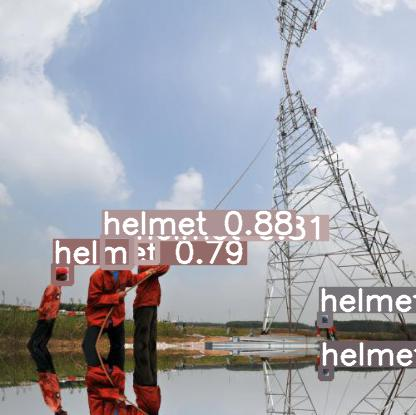helmet: (102, 235, 131, 267), (135, 240, 157, 262), (53, 264, 71, 283), (319, 312, 330, 325), (320, 366, 331, 378)
